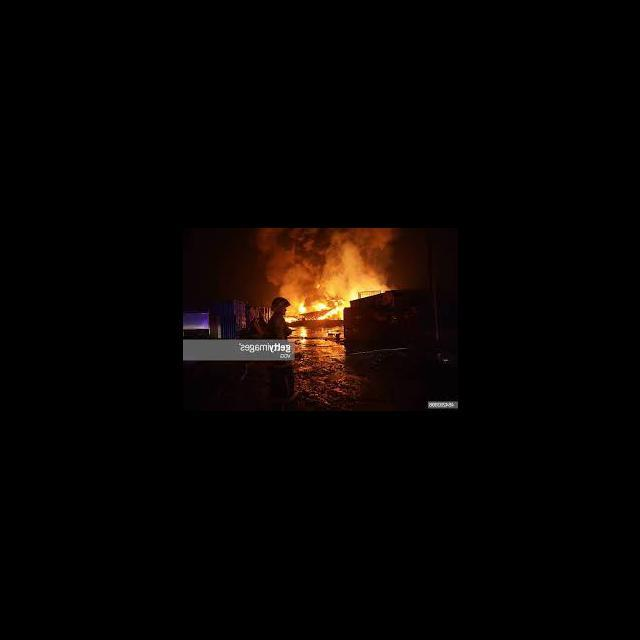Fire: (285, 278, 389, 328)
Smoke: (258, 229, 397, 281)
